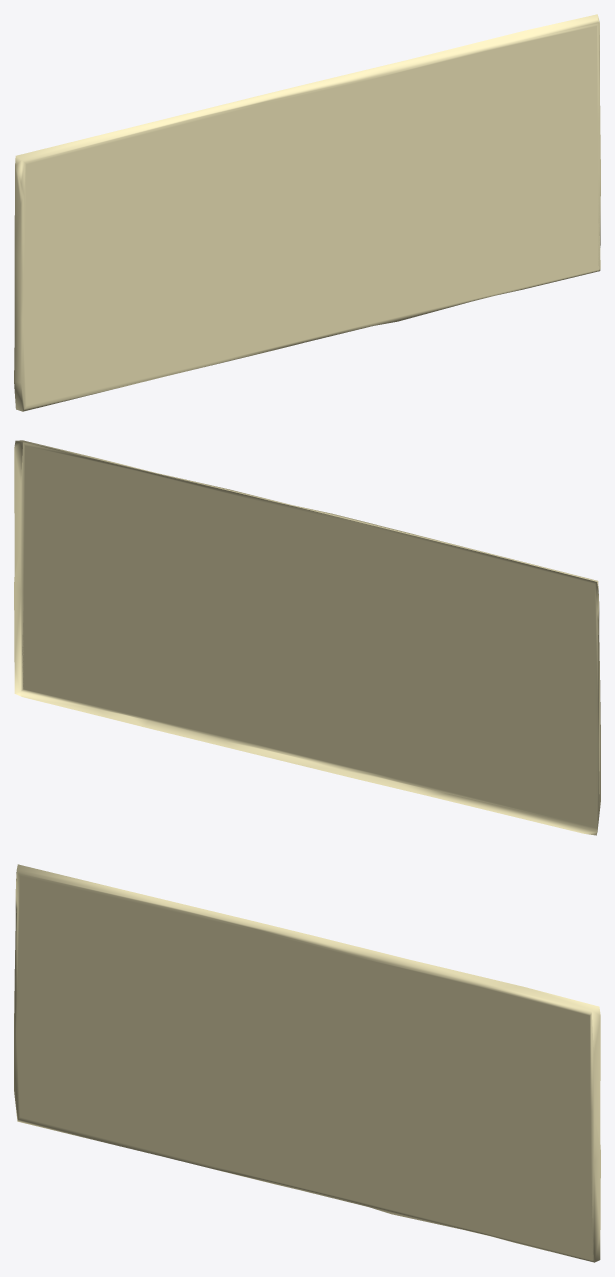
The model's file is ui_panel_10x4.glb.
The picture shows the model from 3 angles, top to bottom: view 1: azimuth 30°, elevation 25°; view 2: azimuth 150°, elevation 25°; view 3: azimuth 330°, elevation 25°; orthographic projection.
Parts seen in each view (by area): view 1: Cube; view 2: Cube; view 3: Cube.
Boxes of the visible parts, left/top/right/bottom form: Cube: left=14, top=14, right=600, bottom=411; Cube: left=14, top=440, right=600, bottom=835; Cube: left=14, top=864, right=600, bottom=1262.
Size of the model in its own units: 2.06 by 0.8662 by 0.0291.
